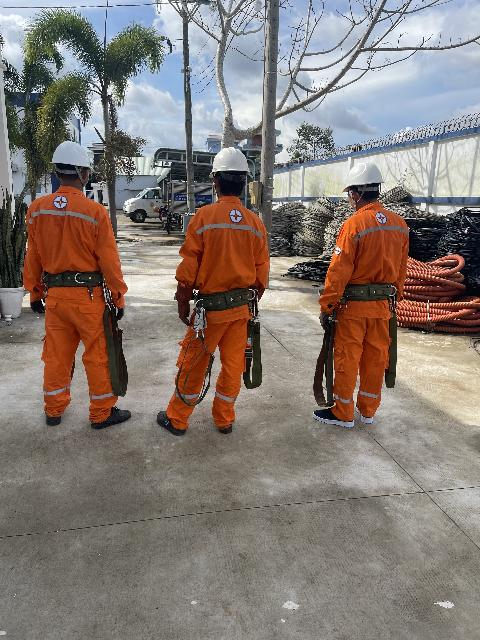gloves: (171, 287, 196, 326), (26, 290, 53, 317), (318, 303, 337, 334)
harness: (175, 280, 269, 312), (46, 262, 115, 297), (333, 276, 402, 308)
helmet: (49, 139, 108, 185), (330, 157, 387, 191), (204, 147, 258, 179)
shoes: (304, 399, 354, 432), (138, 410, 192, 437), (84, 404, 131, 433), (203, 411, 247, 439), (349, 395, 376, 430), (31, 399, 59, 428)
